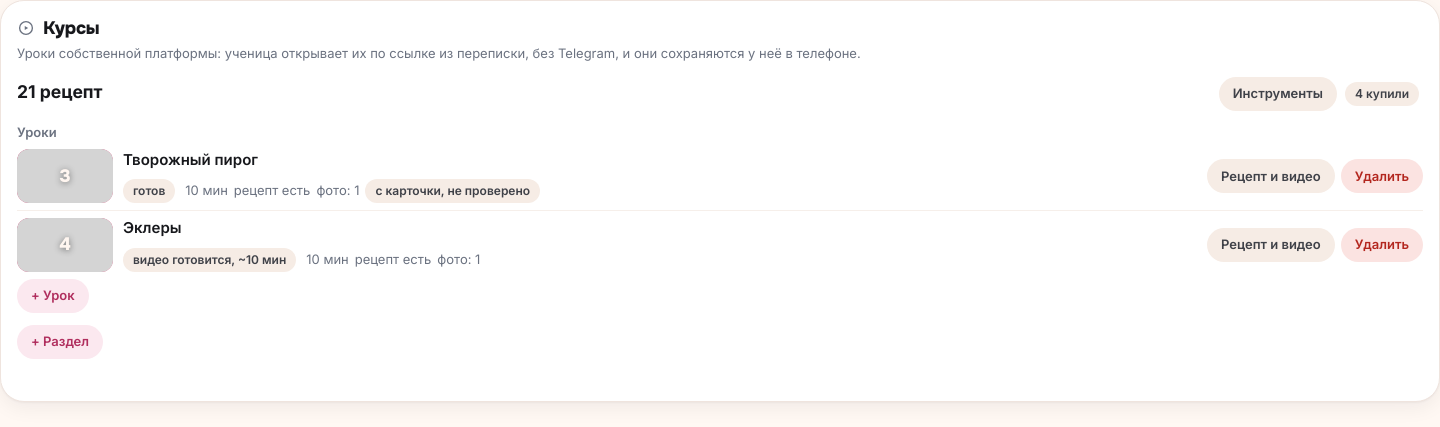
Test case: CoursesPage — уроки › тап по названию → поле; Enter сохраняет через PUT, Escape отменяет
The image size is (1440, 427).
Step 1. Click the button "Творожный пирог" → (190, 159), box [123, 146, 1197, 173]
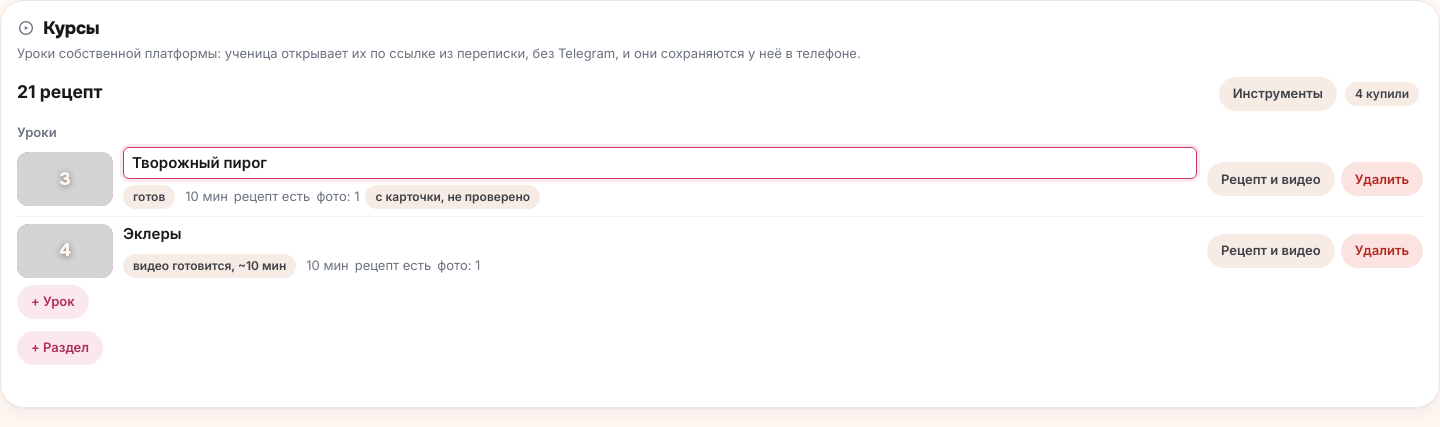
Expected: the field named "Название урока" holds "Творожный пирог"
Step 2. Replace the text in the field named "Название урока" with "Творожный пирог с изюмом" → (660, 163), box [123, 146, 1197, 179]
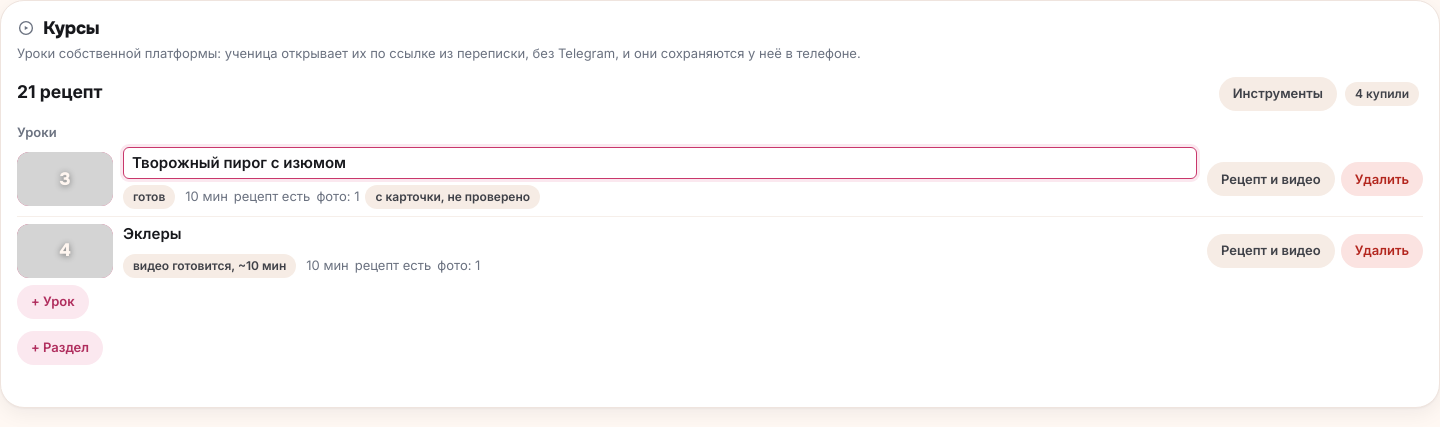
Step 3. Press Enter in the field named "Название урока", box [123, 146, 1197, 179]
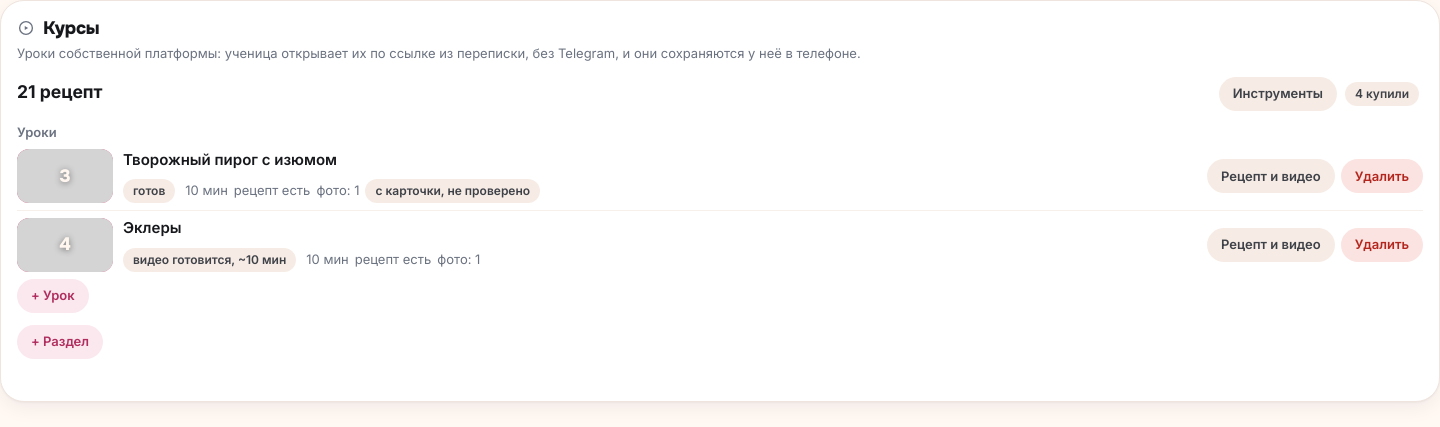
Expected: the button "Творожный пирог с изюмом" is shown, [123, 146, 1197, 173]
Step 4. Click the button "Эклеры" → (152, 228), box [123, 215, 1197, 242]
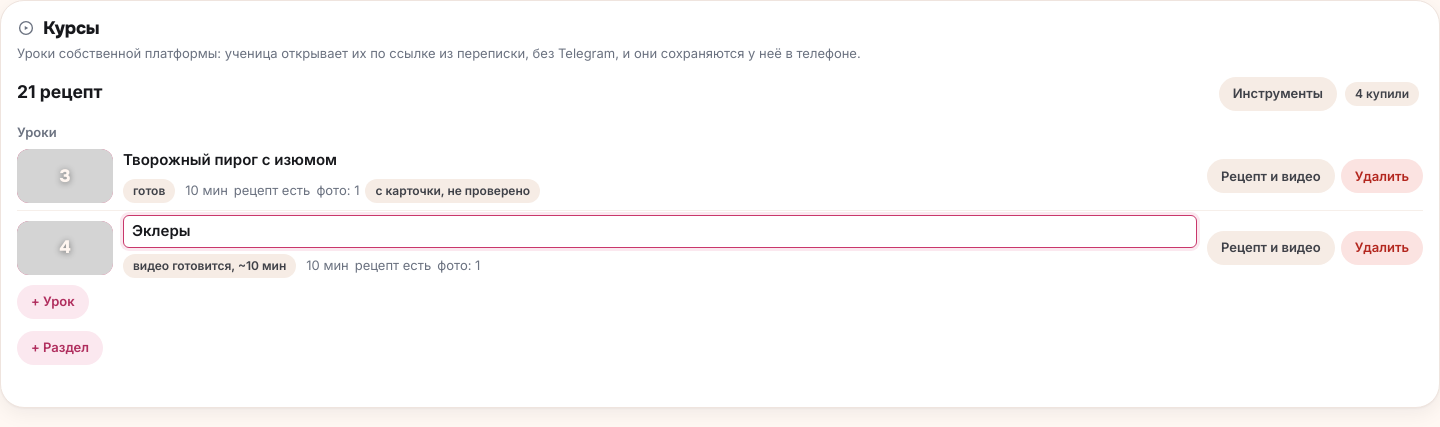
Step 5. Replace the text in the field named "Название урока" with "Не сохранять" → (660, 231), box [123, 215, 1197, 248]
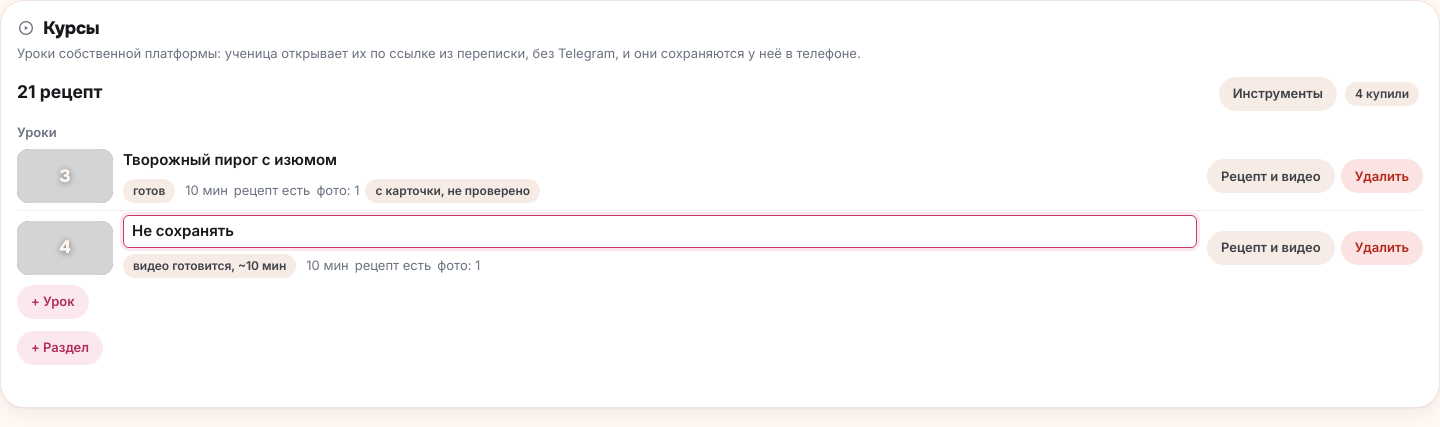
Step 6. Press Escape in the field named "Название урока", box [123, 215, 1197, 248]
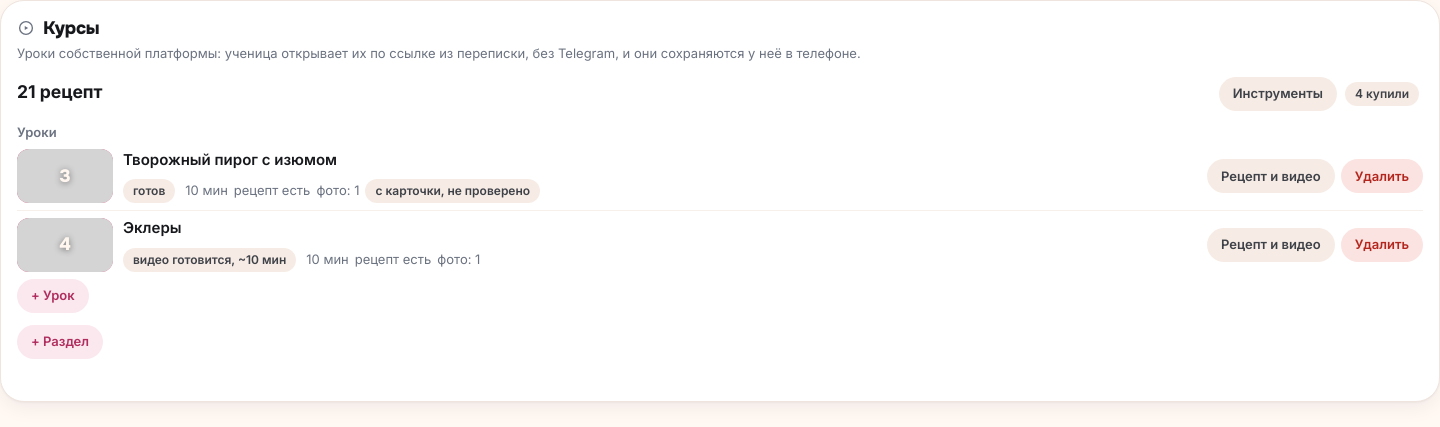
Expected: the button "Эклеры" is shown, [123, 215, 1197, 242]
